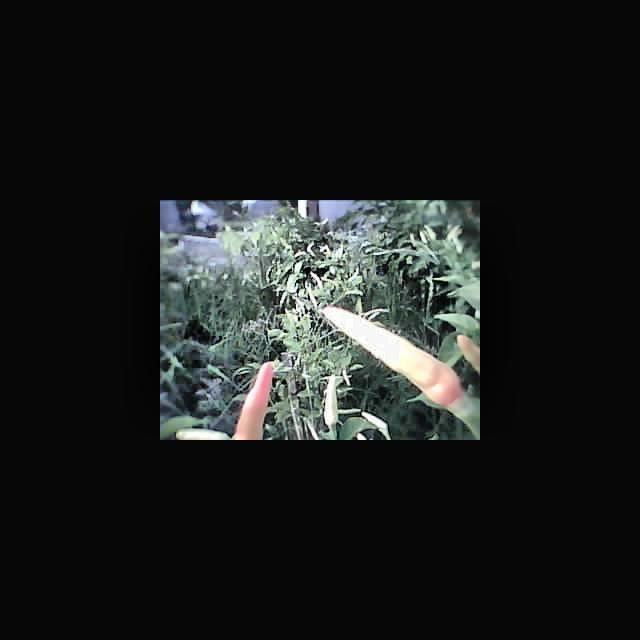Cabai: (333, 313, 461, 405), (233, 362, 269, 440)
